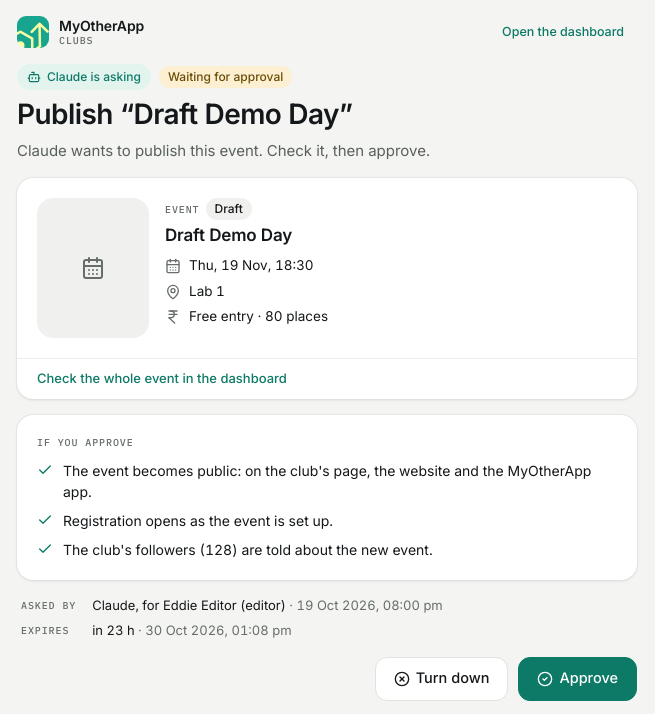
Test: when deciding is refused › explains a role that cannot approve (403 ROLE_FORBIDDEN)
Click the button "Approve". click: (578, 679)
box: x1=518 y1=657 x2=637 y2=701
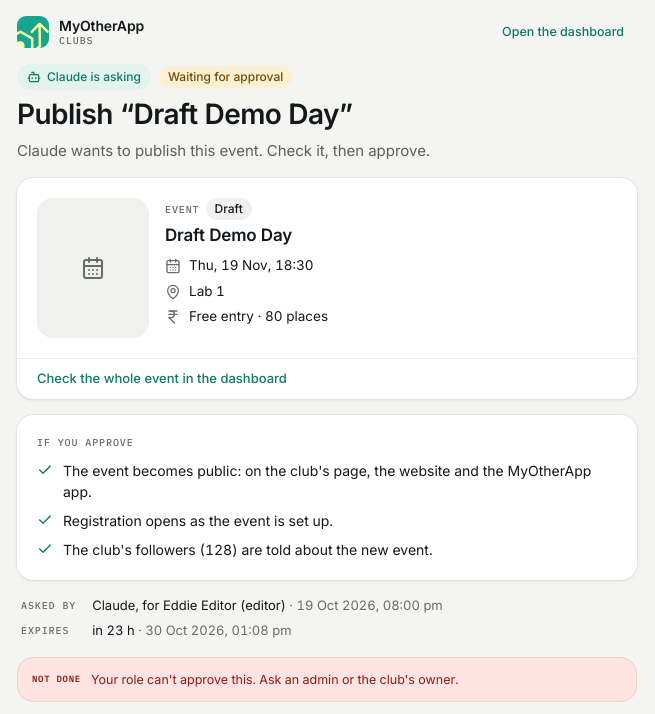
expect the message shows "Your role can't approve this. Ask an admin or the club's owner.": met, box x1=91 y1=672 x2=459 y2=687
